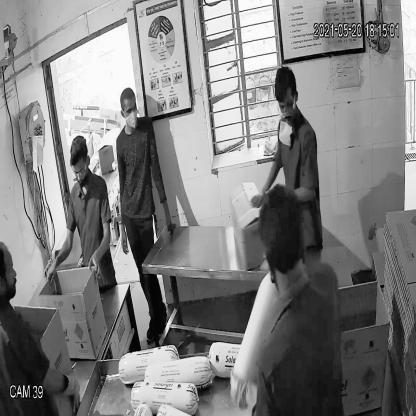goggles: (274, 98, 299, 119), (70, 161, 89, 178)
no_goggles: (119, 103, 139, 118)
